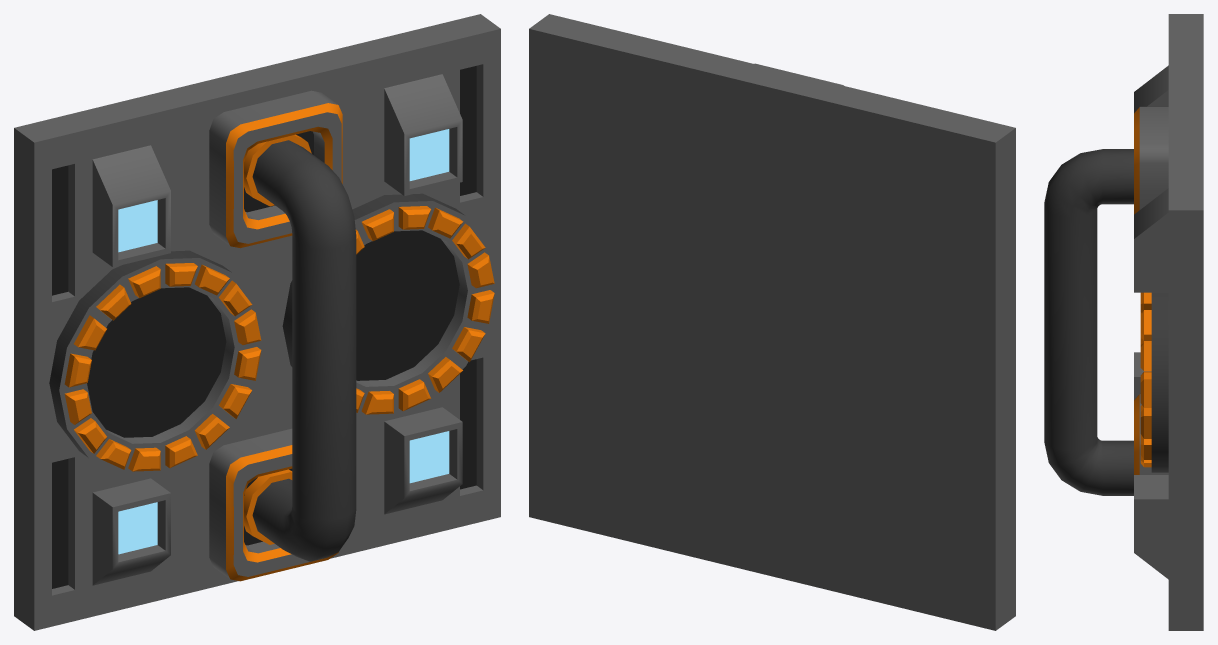
Rendered from Wall_Pipes_1.fbx.
3 renders of one model, left to right at view 1: azimuth 30°, elevation 25°; view 2: azimuth 150°, elevation 25°; view 3: azimuth 270°, elevation 25°, orthographic. The views are drawn at different scales.
Visible parts, largest first — view 1: Wall_Pipes_1; view 2: Wall_Pipes_1; view 3: Wall_Pipes_1.
Boxes of the visible parts, box(x1,y1,x2,y2) form: Wall_Pipes_1: box(14, 14, 500, 630); Wall_Pipes_1: box(529, 14, 1015, 630); Wall_Pipes_1: box(1044, 14, 1203, 630).
Bounding box in the file's own units: 200 × 200 × 68.57.
